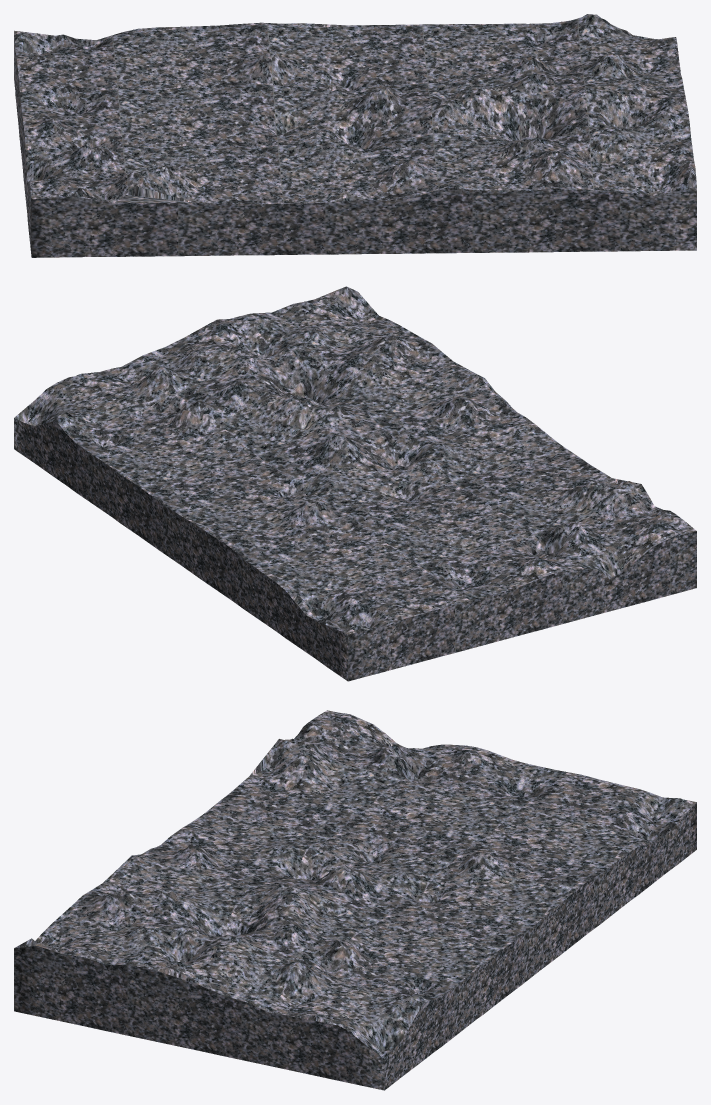
The picture shows the model from 3 angles, top to bottom: view 1: azimuth 30°, elevation 25°; view 2: azimuth 150°, elevation 25°; view 3: azimuth 270°, elevation 25°; orthographic projection. The views are drawn at different scales.
Parts seen in each view (by area): view 1: JD; view 2: JD; view 3: JD.
Boxes of the visible parts, <box> form: JD: <box>14,14,696,257</box>; JD: <box>14,286,696,681</box>; JD: <box>14,710,696,1090</box>.
Bounding box in the file's own units: 11149 × 1239 × 9970.
Materials: 1 (1 with a texture image).
